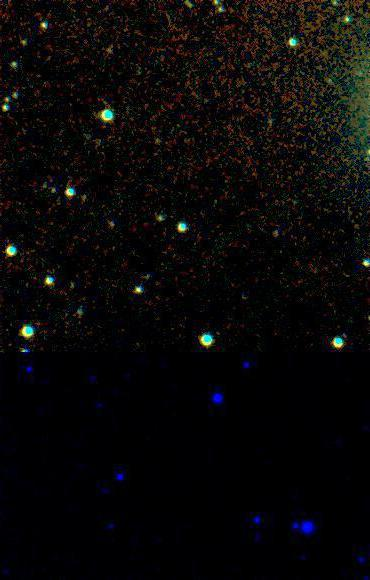star: (311, 38, 341, 68)
